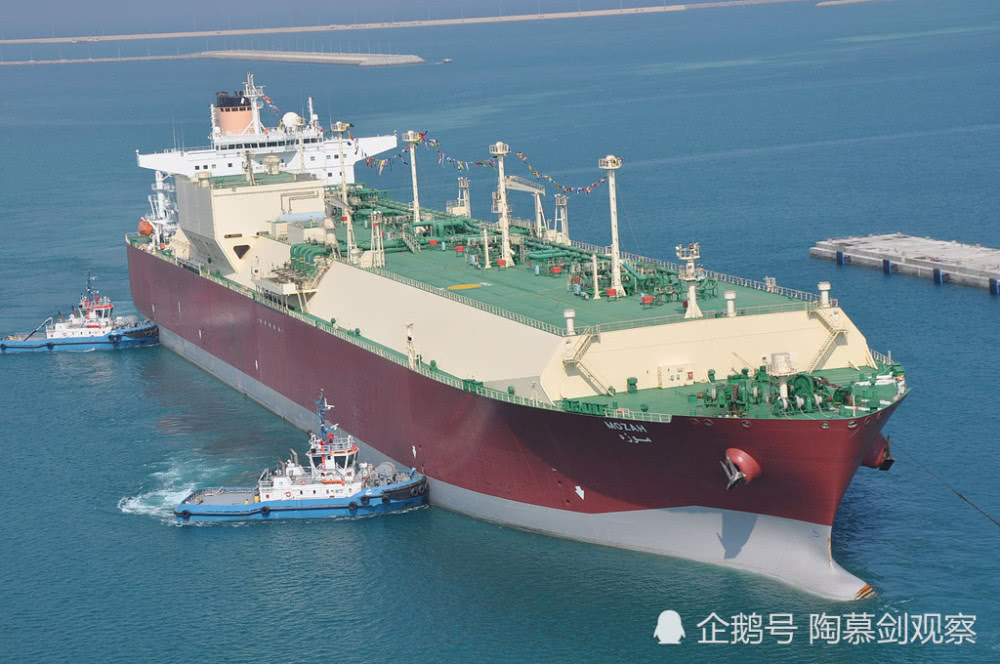Cargoship: (120, 68, 906, 603)
otherboat: (159, 415, 429, 533), (3, 278, 159, 358)
